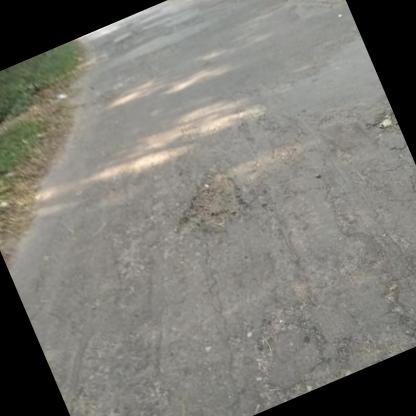pothole: (154, 156, 258, 250), (359, 105, 401, 144)
